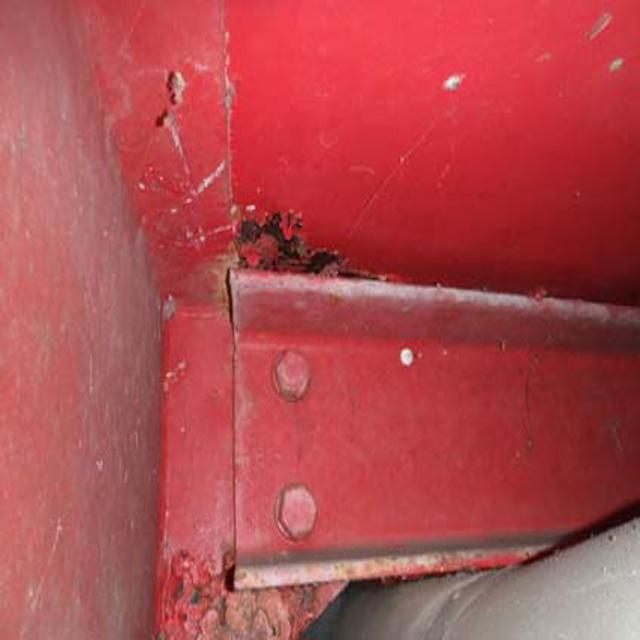corrosion: (213, 187, 378, 337)
